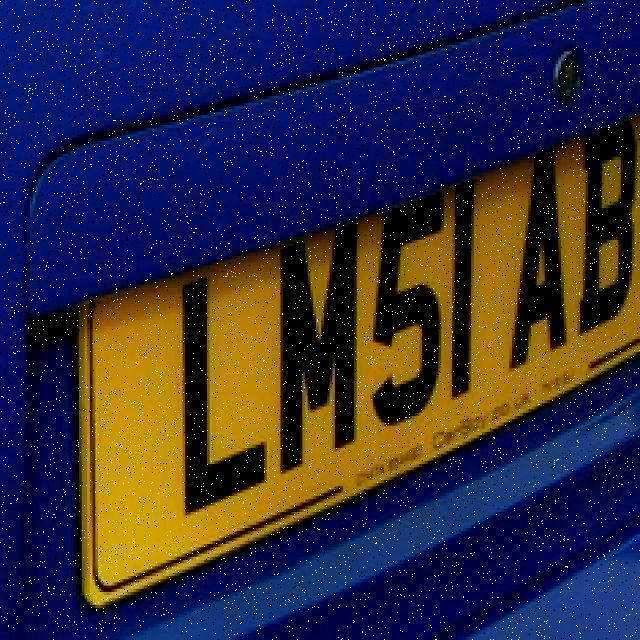License Plate: (62, 132, 640, 524)
